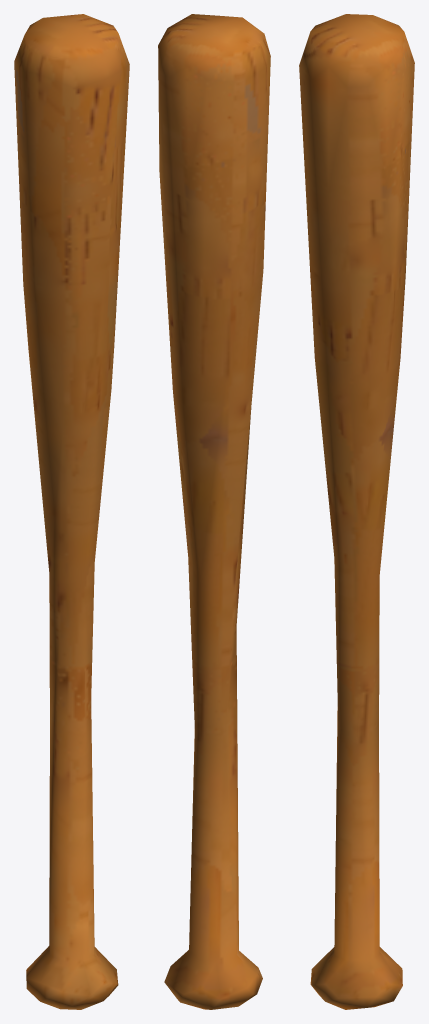
Rendered from StoreTungTung-club-game.glb.
3 renders of one model, left to right at view 1: azimuth 90°, elevation 25°; view 2: azimuth 210°, elevation 25°; view 3: azimuth 270°, elevation 25°, orthographic.
Parts seen in each view (by area): view 1: LowPoly; view 2: LowPoly; view 3: LowPoly.
Part boxes in pixels (x1,y1,x2,y2): LowPoly: [14, 14, 129, 1009]; LowPoly: [158, 14, 270, 1009]; LowPoly: [299, 14, 414, 1009].
Bounding box in the file's own units: 0.1296 × 1.2 × 0.1294.
1 material, 1 textured.
